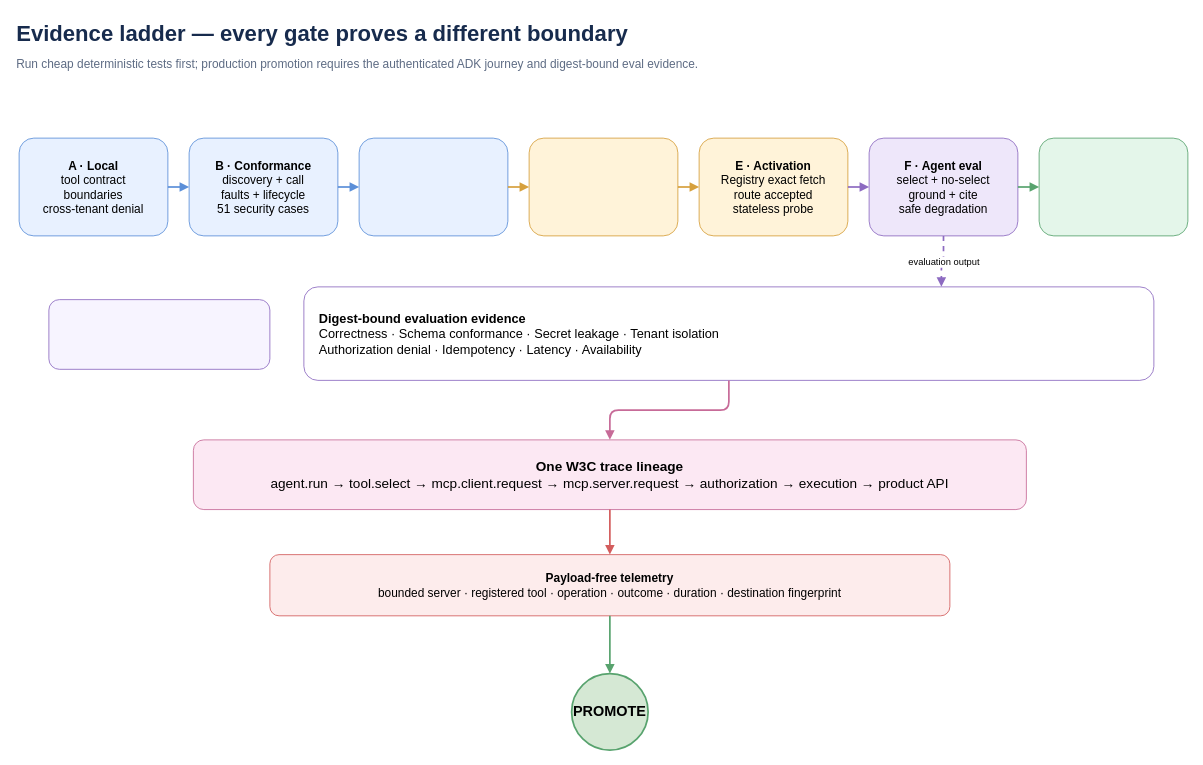
The diagram is 1203 pixels wide and 765 high, and some of its shapes have lost their labels. The box of each missing label's shape, as (x1, y1, x2, y2) in pixels:
C · Artifact digest + SBOM secret scan schema fingerprint: (358, 137, 508, 236)
D · Mesh Ready + strict mTLS SPIFFE allow untrusted 403: (528, 137, 678, 236)
Eight promotion scores all blocking scores must pass: (48, 299, 270, 369)
G · Canary named consumer SLO comparison automatic rollback: (1038, 137, 1188, 236)
